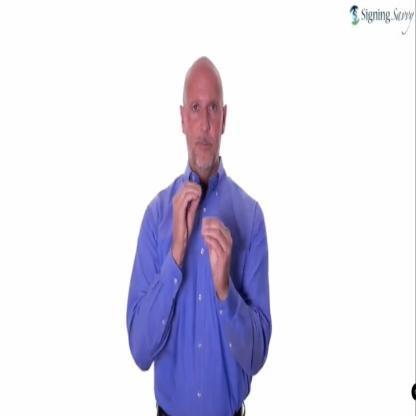Fix: (160, 172, 238, 300)
